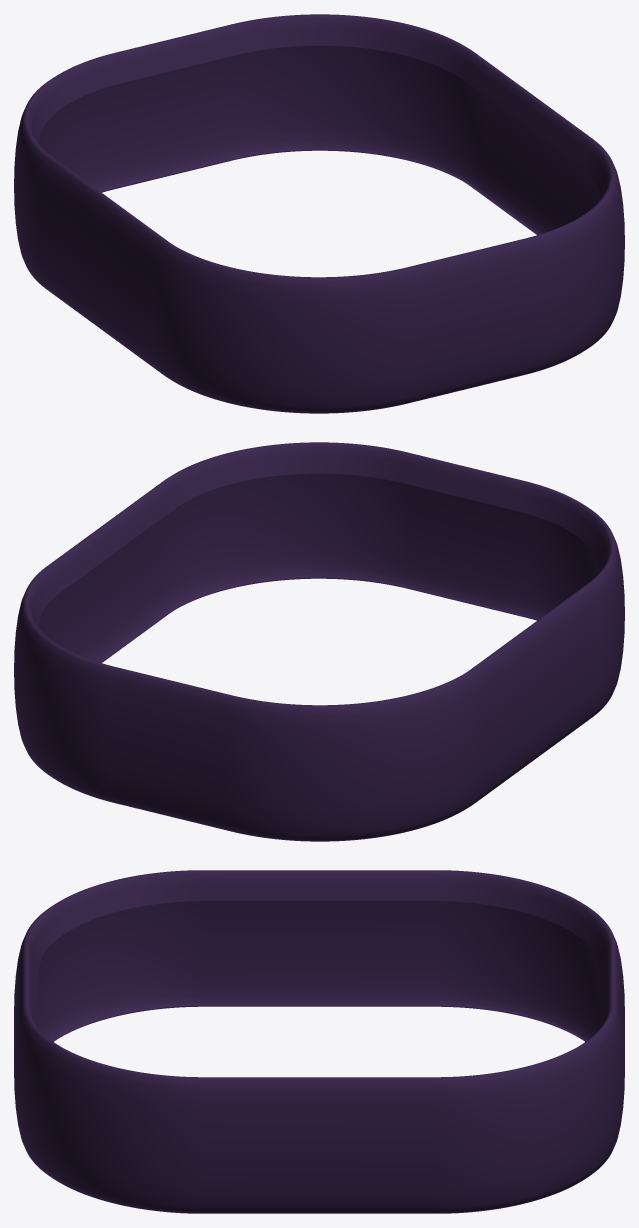
File: SM_StadiumWall.fbx
The picture shows the model from 3 angles, top to bottom: view 1: azimuth 30°, elevation 25°; view 2: azimuth 150°, elevation 25°; view 3: azimuth 270°, elevation 25°; orthographic projection.
Parts seen in each view (by area): view 1: SM_StadiumWall; view 2: SM_StadiumWall; view 3: SM_StadiumWall.
Part boxes in pixels (x1,y1,x2,y2): SM_StadiumWall: [14, 14, 624, 413]; SM_StadiumWall: [14, 442, 624, 841]; SM_StadiumWall: [14, 870, 624, 1213].
Bounding box in the file's own units: 12920 × 3787 × 15351.
